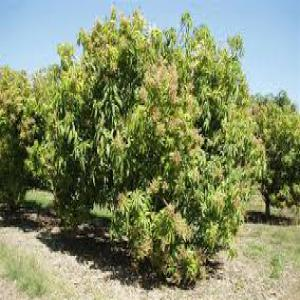Tree: (66, 12, 255, 288)
